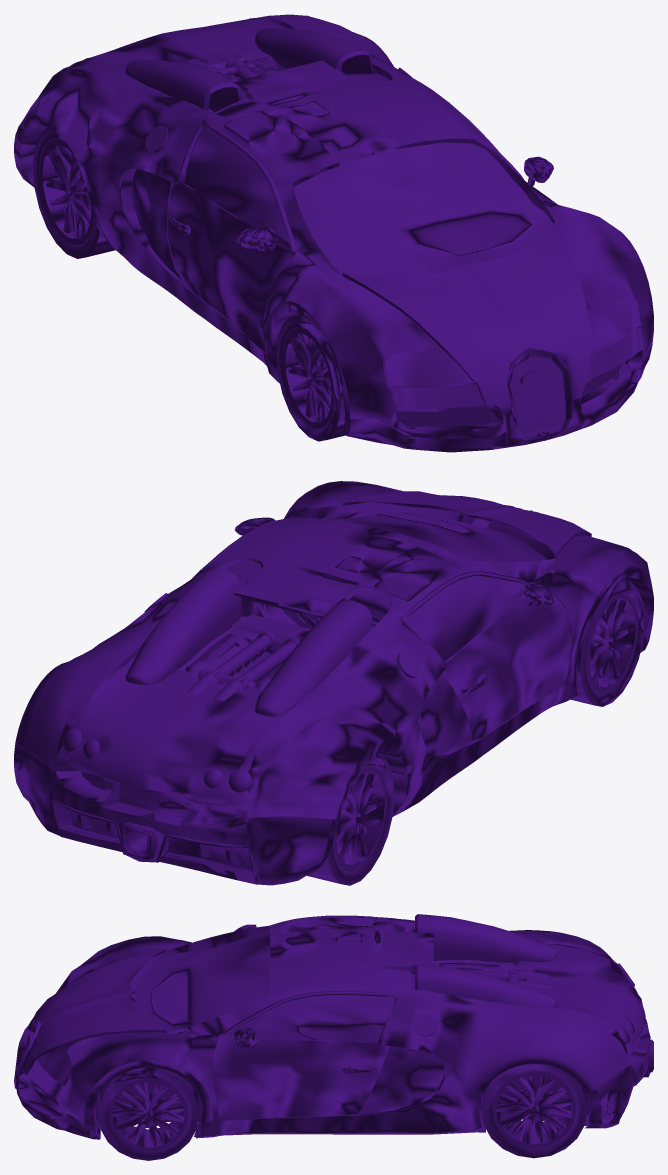
Rendered from bugatti.FBX.
The picture shows the model from 3 angles, top to bottom: view 1: azimuth 30°, elevation 25°; view 2: azimuth 150°, elevation 25°; view 3: azimuth 270°, elevation 25°; orthographic projection. The views are drawn at different scales.
Parts seen in each view (by area): view 1: UVimp_Bugatti_DIRT005; view 2: UVimp_Bugatti_DIRT005; view 3: UVimp_Bugatti_DIRT005.
Boxes of the visible parts, x1=… form: UVimp_Bugatti_DIRT005: x1=14, y1=14, x2=653, y2=452; UVimp_Bugatti_DIRT005: x1=14, y1=481, x2=653, y2=885; UVimp_Bugatti_DIRT005: x1=14, y1=914, x2=653, y2=1160.
Size of the model in its own units: 73.1 by 45.33 by 163.
